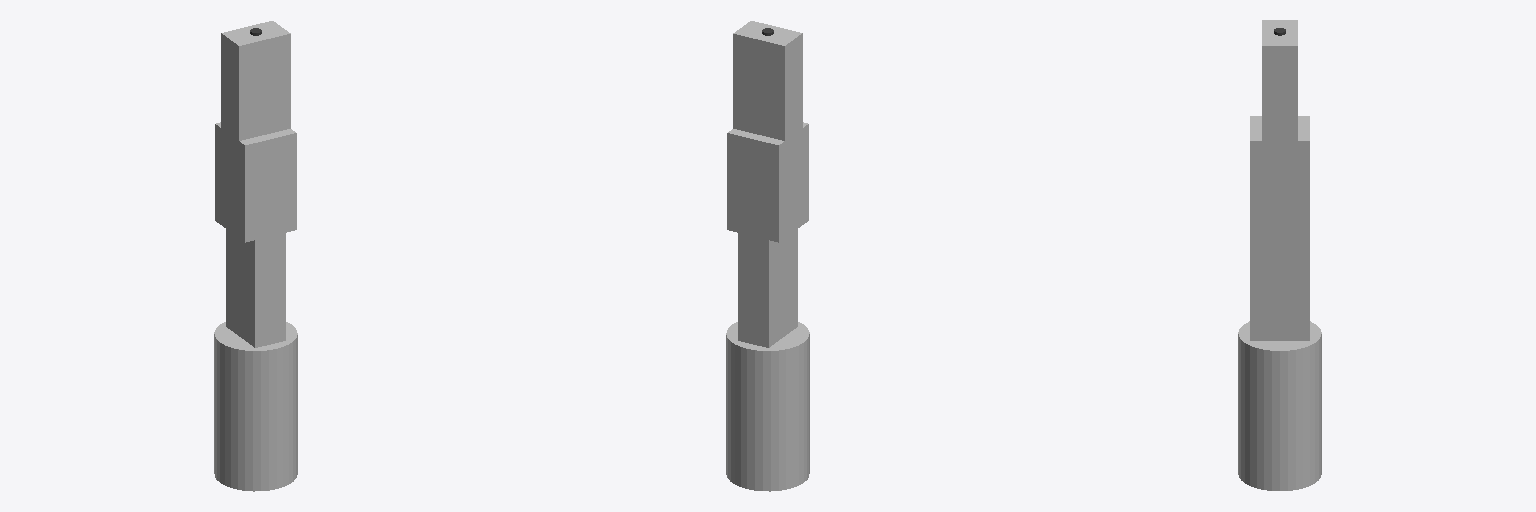
URDF robot description (ve026a):
<?xml version="1.0"?>
<robot name="ve026a">
	<link name="base_link">
    <visual>
      <geometry>
	      <cylinder length="0.130" radius="0.035"/>
      </geometry>
      <origin xyz="0 0 0.065"/>
      <material name="link_white">
	      <color rgba="0.8 0.8 0.8 1"/>
		  </material>
		</visual>
  </link>
	<link name="link0">
    <visual>
	  	<geometry>
				<box size="0.01 0.01 0.01"/>
			</geometry>
			<origin xyz="0 0 0"/>
      <material name="link_dark">
  	    <color rgba="0.3 0.3 0.3 1"/>
		  </material>
		</visual>
  </link>
  <joint name="J1" type="revolute">
    <axis xyz="0 0 1"/>
    <limit effort="1000.0" lower="-1.39626" upper="1.83259" velocity="1.0"/>
    <origin rpy="0 0 0" xyz="0.0 0.0 0.130"/>
    <parent link="base_link"/>
    <child link="link0"/>
  </joint>


	<link name="link1">
    <visual>
	  	<geometry>
				<box size="0.03 0.05 0.1"/>
			</geometry>
			<origin xyz="0 0 0.05"/>
      <material name="link_white"/>
		</visual>
  </link>
  <joint name="J2" type="revolute">
    <axis xyz="0 1 0"/>
    <limit effort="1000.0" lower="-0.61086" upper="1.57075" velocity="1.0"/>
    <origin rpy="0 0 0" xyz="0.0 0.0 0.0"/>
    <parent link="link0"/>
    <child link="link1"/>
  </joint>

	<link name="link2">
   <visual>
	  	<geometry>
				<box size="0.01 0.01 0.01"/>
			</geometry>
			<origin xyz="0 0 0"/>
      <material name="link_dark"/>  	   
		</visual>
  </link>

	<joint name="J3" type="revolute">
    <axis xyz="0 1 0"/>
    <limit effort="1000.0" lower="-1.30899" upper="2.35619" velocity="1.0"/>
    <origin rpy="0 0 0" xyz="0.0 0.0 0.100"/>
    <parent link="link1"/>
    <child link="link2"/>
	</joint>

	<link name="link3">
  <visual>
    <geometry>
      <box size="0.05 0.05 0.09"/>
    </geometry>
    <origin xyz="0 0 0.045"/>
    <material name="link_white"/>
  </visual>
  </link>

	<joint name="J4" type="revolute">
		<axis xyz="0 0 1"/>
		<limit effort="1000.0" lower="-2.44346" upper="2.44346" velocity="1.0"/>
		<origin rpy="0 0 0" xyz="0.0 0.0 0.0"/>
		<parent link="link2"/>
    <child link="link3"/>
	</joint>

	<link name="link4">
    <visual>
    <geometry>
      <box size="0.05 0.03 0.088"/>
    </geometry>
    <origin xyz="0 0 0.044"/>
    <material name="link_white"/>
  </visual>

  </link>

	<joint name="J5" type="revolute">
		<axis xyz="0 1 0"/>
		<limit effort="1000.0" lower="-1.57075" upper="1.83259" velocity="1.0"/>
		<origin rpy="0 0 0" xyz="0.0 0.0 0.090"/>
		<parent link="link3"/>
		<child link="link4"/>
	</joint>

	<link name="link5">
    <visual>
      <geometry>
	      <cylinder length="0.005" radius="0.005"/>
      </geometry>
      <origin xyz="0 0 0"/>
      <material name="link_dark"/>
		</visual>
  </link>

	<joint name="J6" type="revolute">
		<axis xyz="0 0 1"/>
		<limit effort="1000.0" lower="-2.44346" upper="2.44346" velocity="1.0"/>
		<origin rpy="0 0 0" xyz="0.0 0.0 0.088"/>
		<parent link="link4"/>
		<child link="link5"/>
	</joint>
<!--
  <link name="gripper_left">
		<visual>
			<geometry>
				<box size="0.020 0.002 0.030"/>
			</geometry>
			<origin xyz="0 0 0.015"/>
			<material name="link_white"/>
		</visual>
	</link>

	<joint name="J7_left" type="prismatic">
		<axis xyz="0 1 0"/>
		<limit effort="1000.0" lower="0.013" upper="0.0215" velocity="1.0"/>
		<origin rpy="0 0 0" xyz="0.0 0.0 0.0"/>
		<parent link="link5"/>
		<child link="gripper_left"/>
	</joint>

	<link name="gripper_right">
		<visual>
			<geometry>
				<box size="0.020 0.002 0.030"/>
			</geometry>
			<origin xyz="0 0 0.015"/>
			<material name="link_white"/>
		</visual>		
	</link>

	<joint name="J7_right" type="prismatic">
		<axis xyz="0 1 0"/>
		<limit effort="1000.0" lower="-0.013" upper="-0.0215" velocity="1.0"/>
		<origin rpy="0 0 0" xyz="0.0 0.0 0.0"/>
		<parent link="link5"/>
		<child link="gripper_right"/>
	</joint>
-->  
	

</robot>

--- Facts derived from the render (not from the file) ---
Views: 3 orthographic renders of the robot side by side, from view 1: azimuth 30°, elevation 25°; view 2: azimuth 150°, elevation 25°; view 3: azimuth 270°, elevation 25°.
Model ve026a with 7 links and 6 joints (6 revolute), rooted at base_link, posed every joint at zero.
Visible links, largest first — view 1: base_link, link3, link4, link1; view 2: base_link, link3, link4, link1; view 3: base_link, link3, link1, link4.
Link boxes in pixels (left/top/right/bottom): base_link: left=214, top=322, right=297, bottom=491; link3: left=215, top=122, right=296, bottom=242; link4: left=221, top=21, right=290, bottom=140; link1: left=226, top=229, right=285, bottom=347; base_link: left=726, top=322, right=809, bottom=491; link3: left=727, top=122, right=808, bottom=242; link4: left=733, top=21, right=802, bottom=140; link1: left=738, top=229, right=797, bottom=347; base_link: left=1238, top=321, right=1321, bottom=490; link3: left=1250, top=116, right=1309, bottom=237; link1: left=1250, top=238, right=1309, bottom=340; link4: left=1262, top=20, right=1297, bottom=140.
Size in the robot's own frame: 0.07 by 0.07 by 0.4105 metres.
Geometry: primitives only (box / cylinder / sphere), no mesh files.